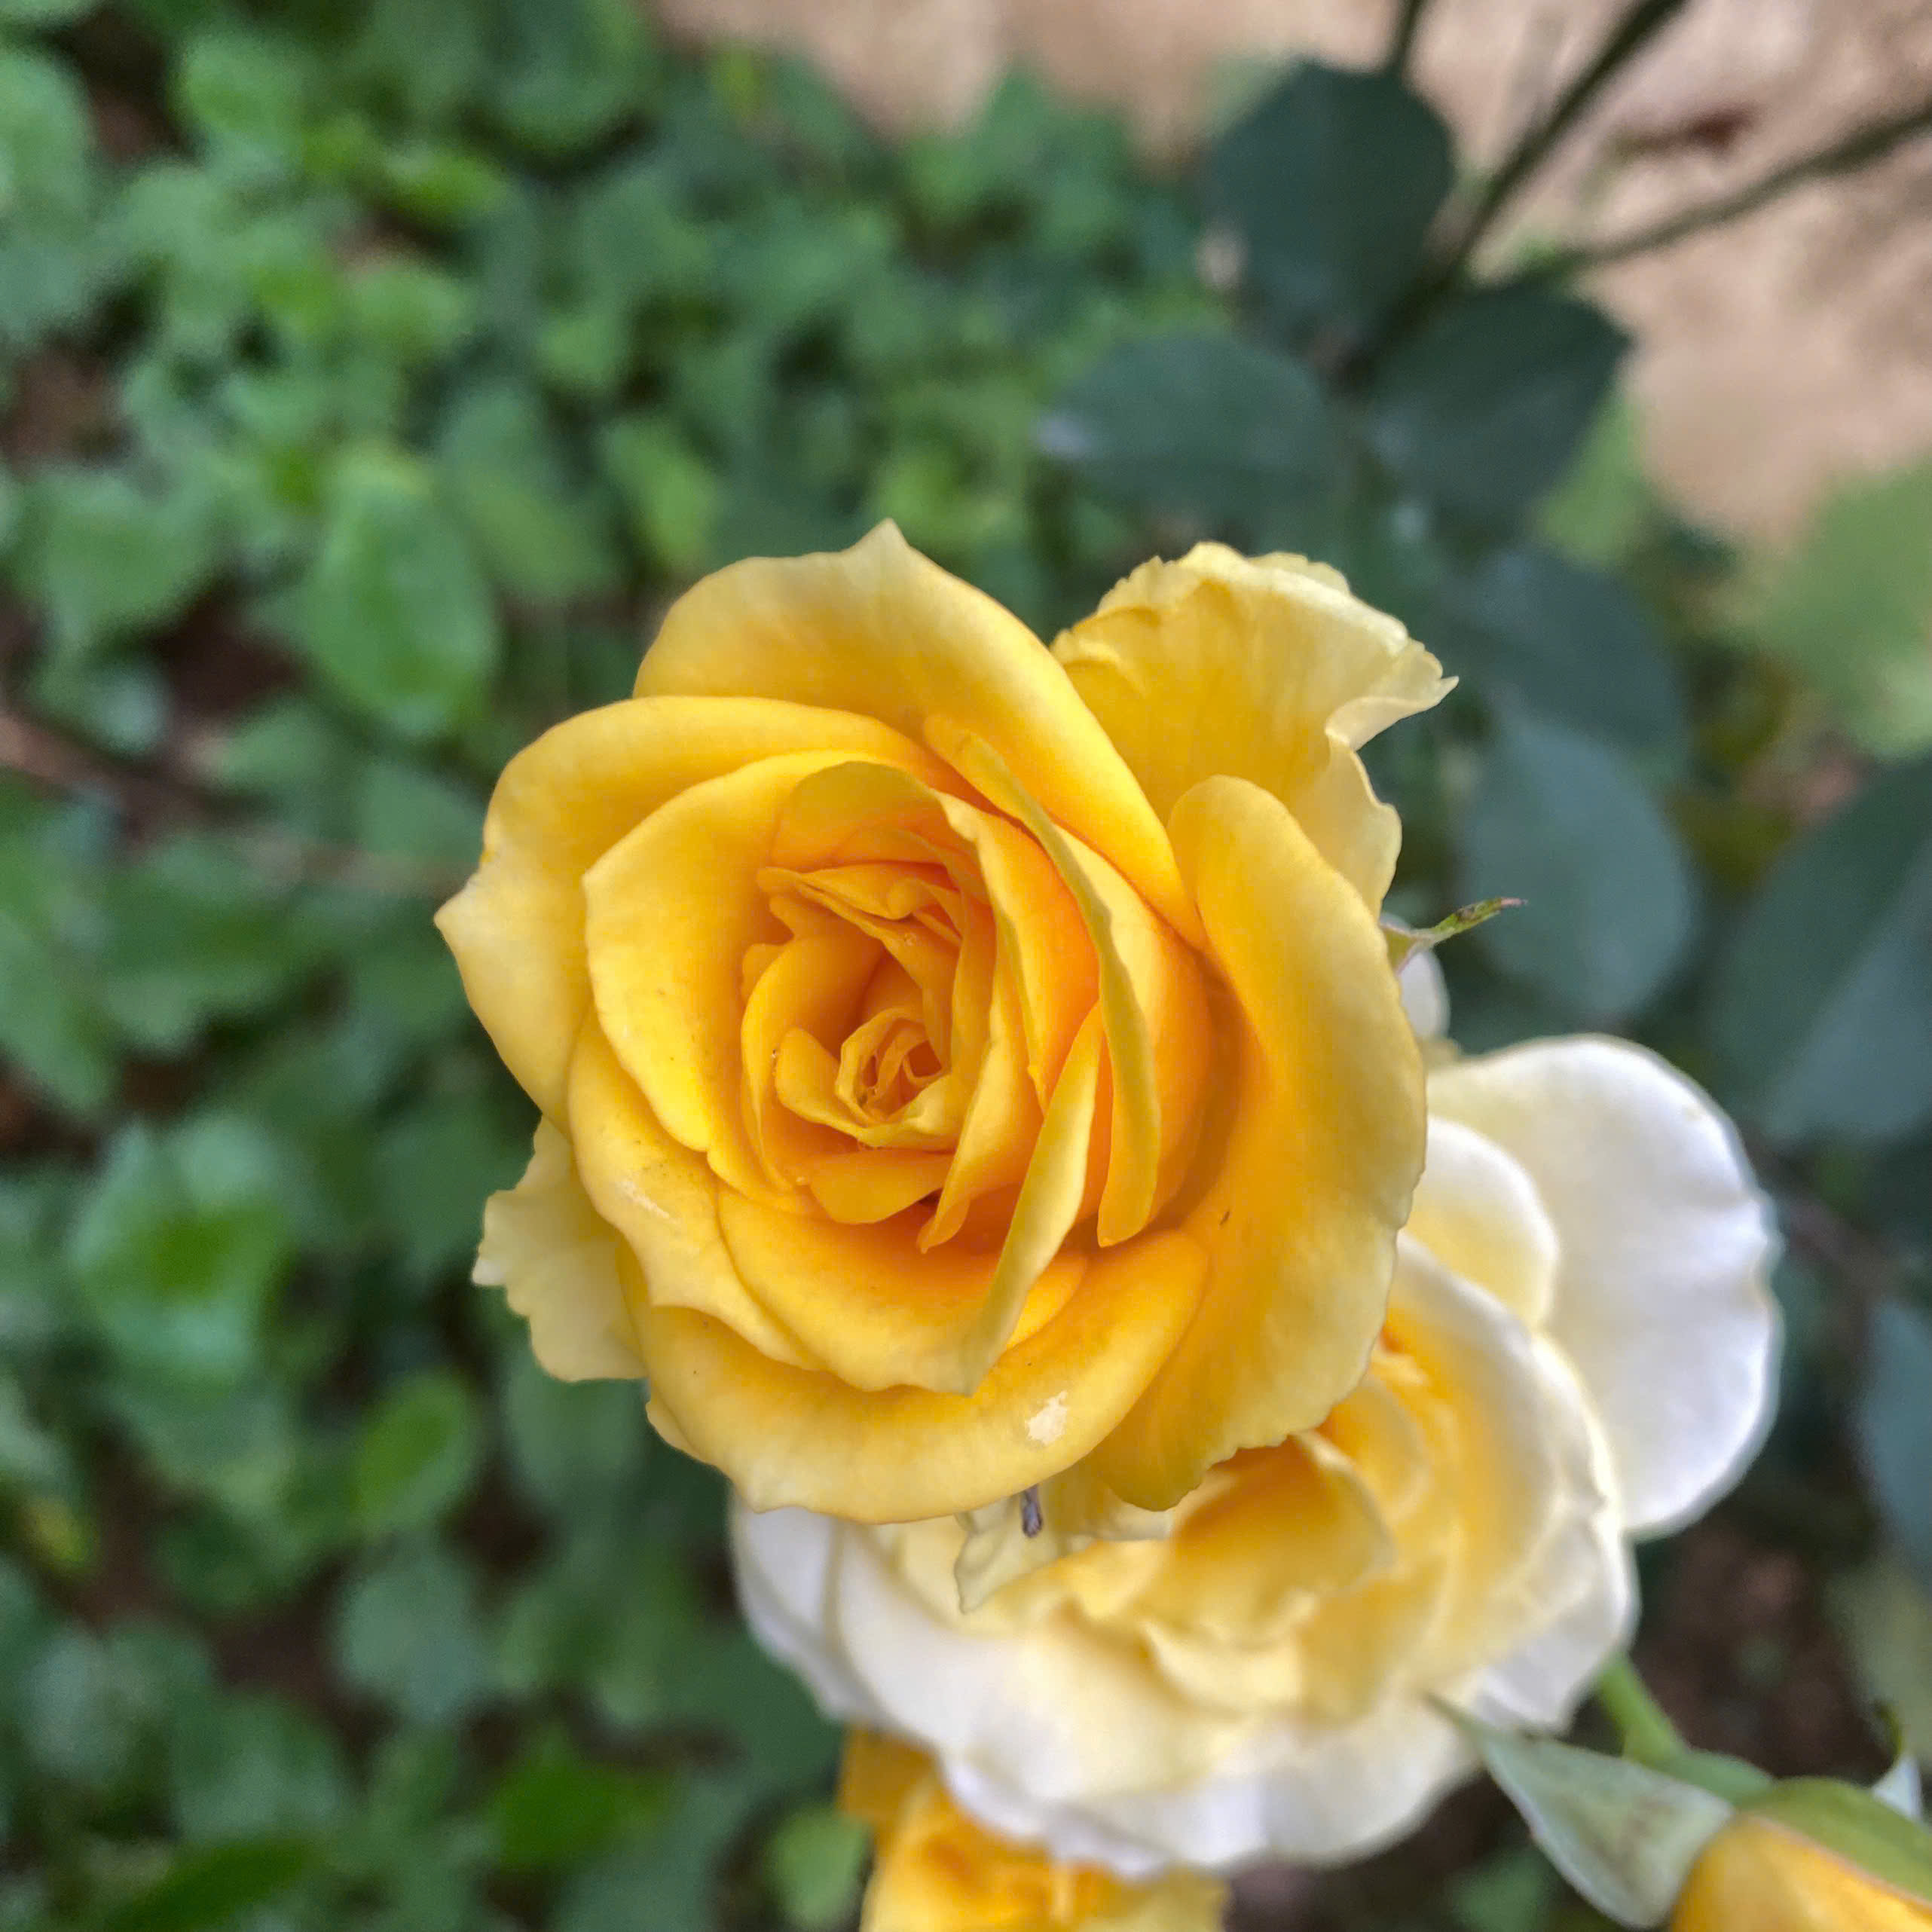hoa_thuoc_duoc: (267, 444, 1833, 1932)
